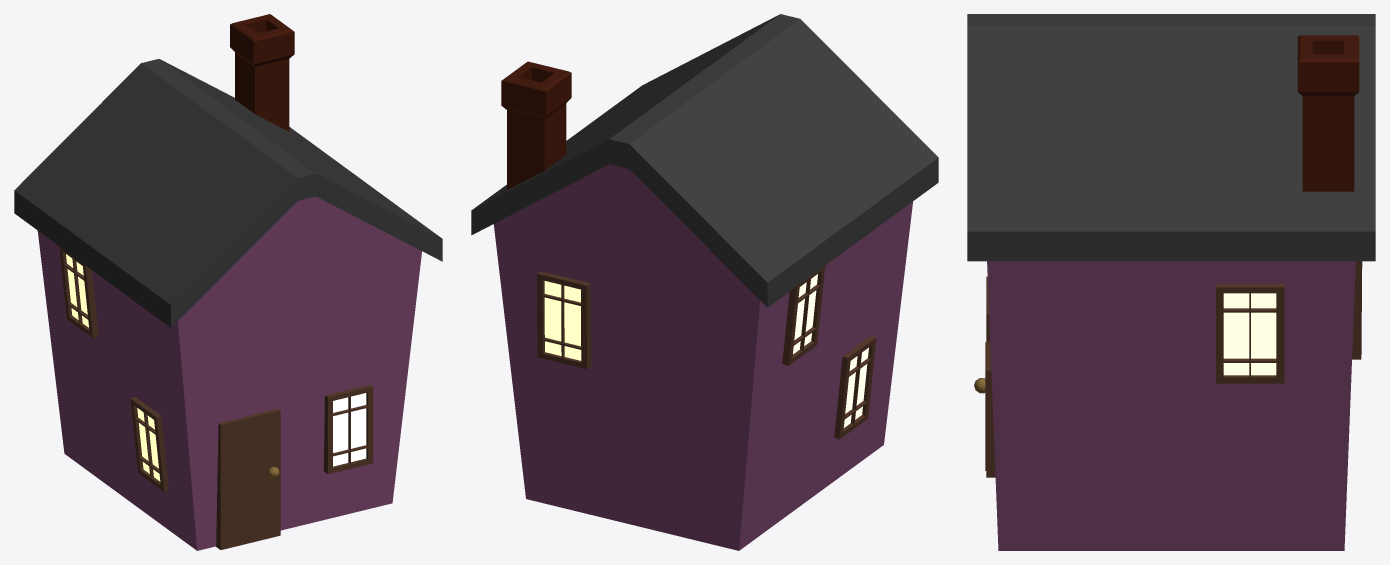
File: House2.glb
3 renders of one model, left to right at view 1: azimuth 30°, elevation 25°; view 2: azimuth 150°, elevation 25°; view 3: azimuth 270°, elevation 25°, orthographic. The views are drawn at different scales.
Visible parts, largest first — view 1: House2; view 2: House2; view 3: House2.
Part boxes in pixels (box(x1,y1,x2,y2)): House2: box(14, 14, 442, 550); House2: box(471, 14, 938, 550); House2: box(967, 14, 1375, 550).
Size of the model in its own units: 5 by 6.78 by 5.
